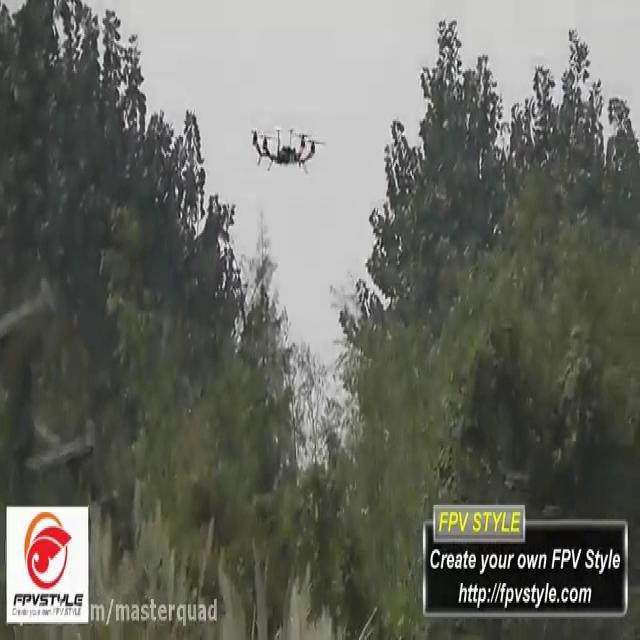drone: (245, 119, 328, 178)
